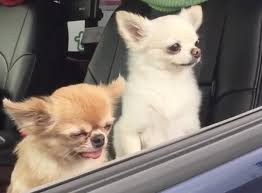chihuahua: (3, 73, 127, 191), (111, 7, 204, 128)
